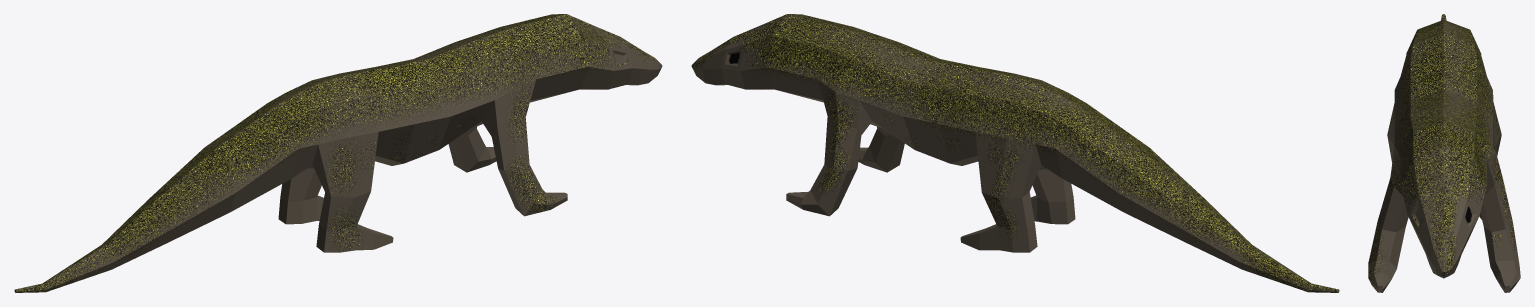
File: Komodo.fbx
3 views of the same model, side by side, from view 1: azimuth 30°, elevation 25°; view 2: azimuth 150°, elevation 25°; view 3: azimuth 270°, elevation 25° (orthographic). The views are drawn at different scales.
Visible parts, largest first — view 1: Komodo; view 2: Komodo; view 3: Komodo.
Boxes of the visible parts, x1=… form: Komodo: x1=14, y1=14, x2=662, y2=292; Komodo: x1=691, y1=14, x2=1339, y2=292; Komodo: x1=1368, y1=14, x2=1520, y2=292.
Bounding box in the file's own units: 3.68 × 0.9032 × 0.725.
Materials: 1 (1 with a texture image).
